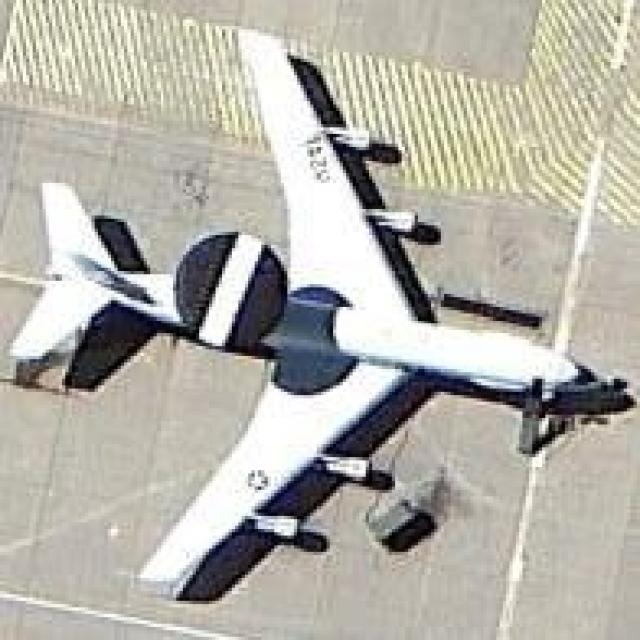E-3_TopDown: (0, 23, 637, 604)
